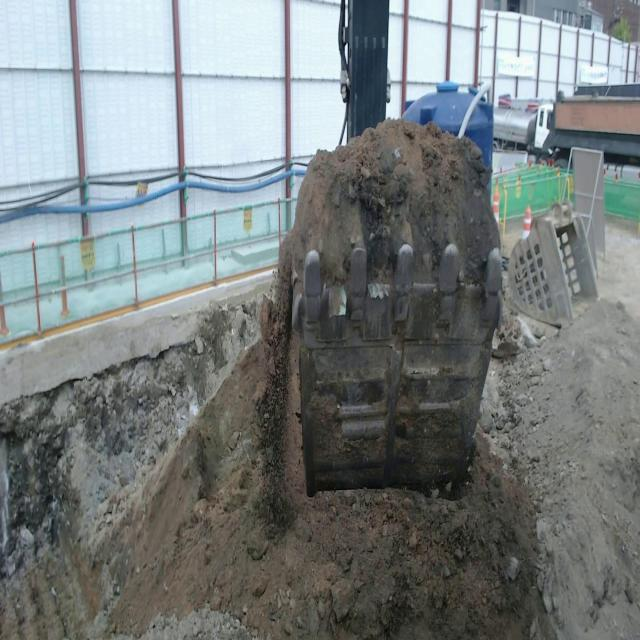red-sand: (0, 342, 539, 639), (278, 119, 500, 296)
white-sand: (535, 300, 640, 639)
